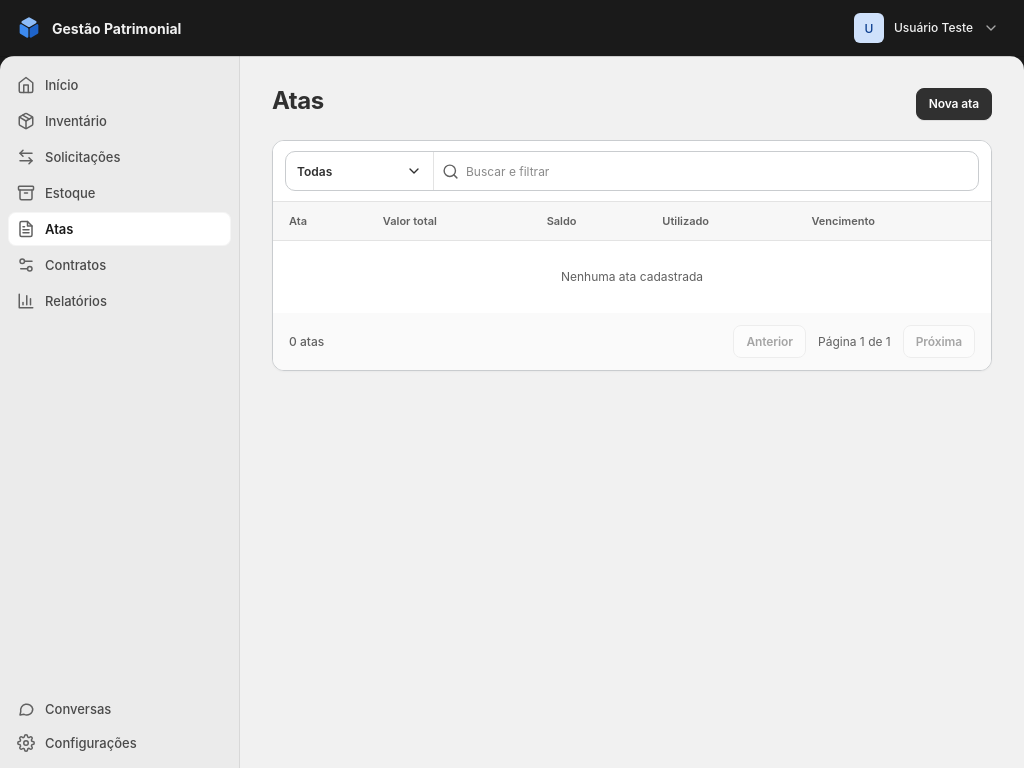
Test: Atas › cadastra uma ata em página própria e volta à lista com a confirmação
Click the link "Nova ata": (954, 104) [916,88,992,120]
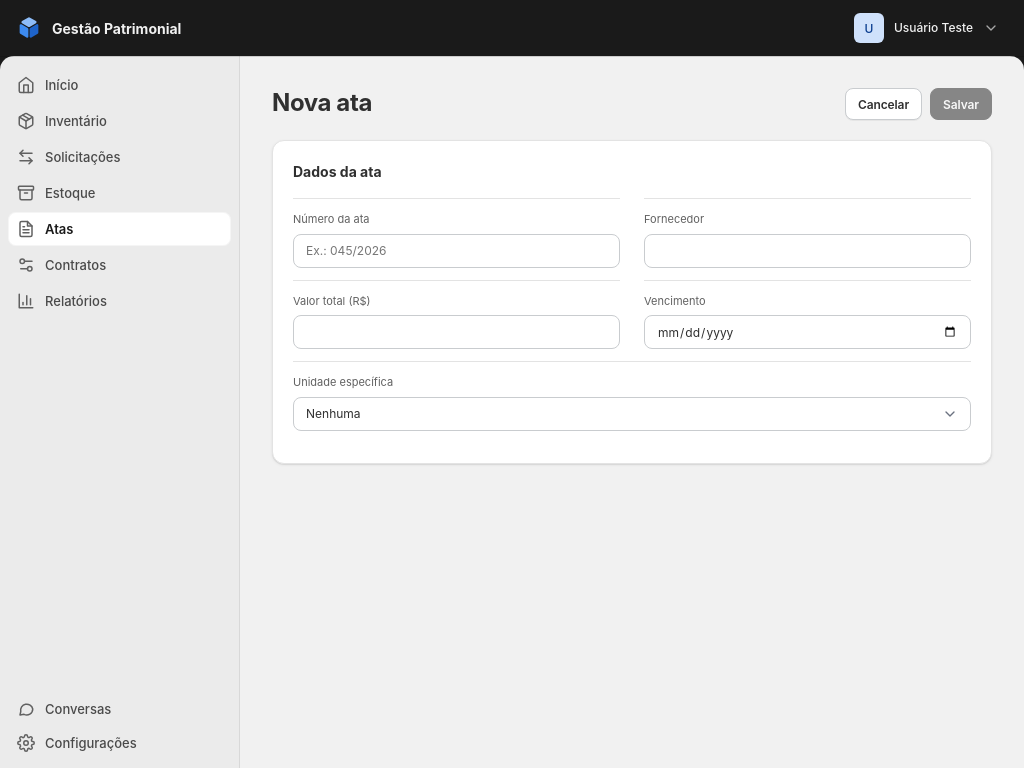
Expected: the heading "Nova ata" is shown, [272,88,372,118]
Expected: the field labelled "Fornecedor" is enabled, [644,234,971,268]
In the field labelled "Número da ata": (456, 250) [293,234,620,268], type "099/2026"
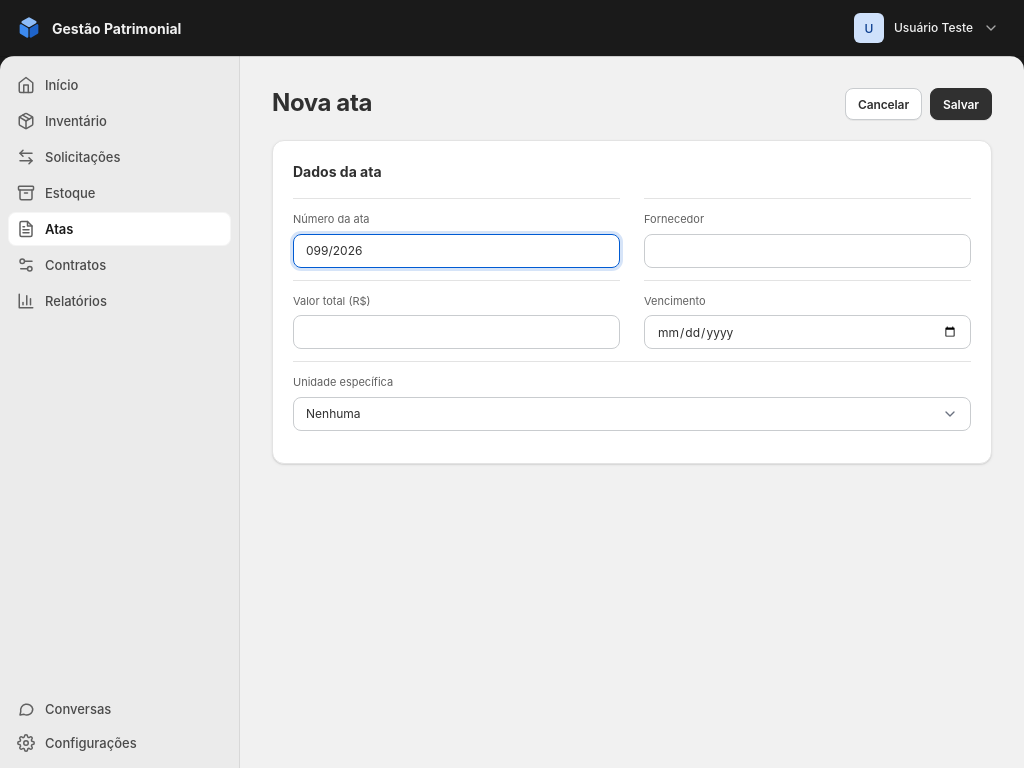
In the field labelled "Fornecedor": (808, 250) [644,234,971,268], type "MedEquip"
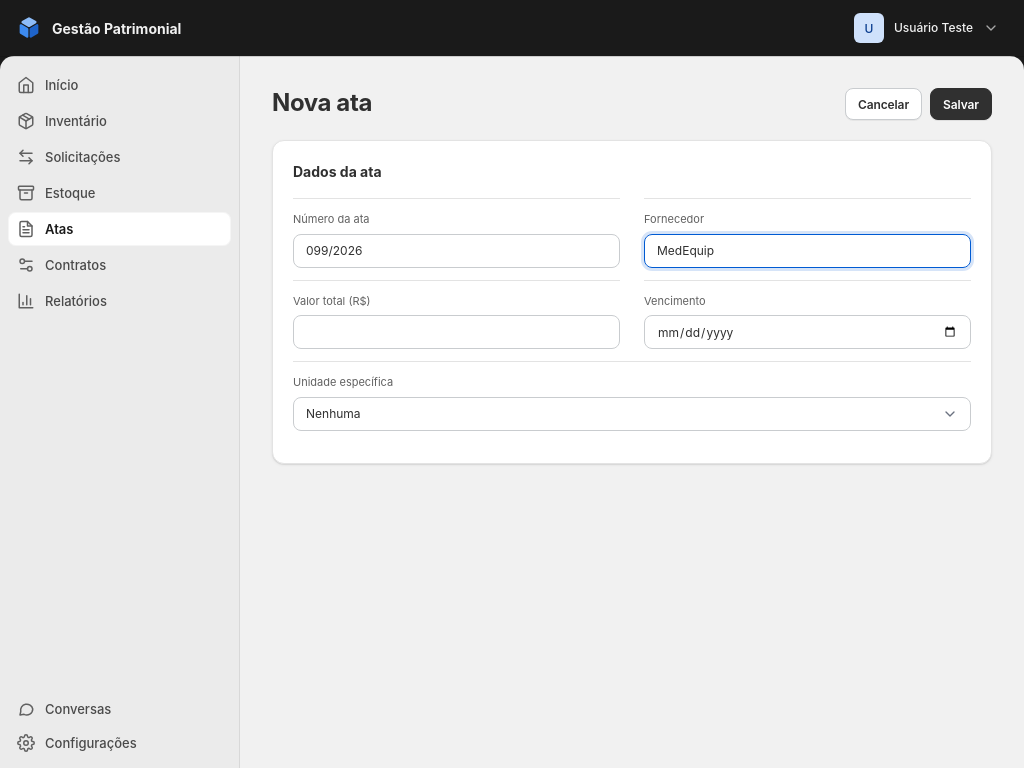
In the number field labelled "Valor total (R$)": (456, 332) [293,315,620,349], type "5000"
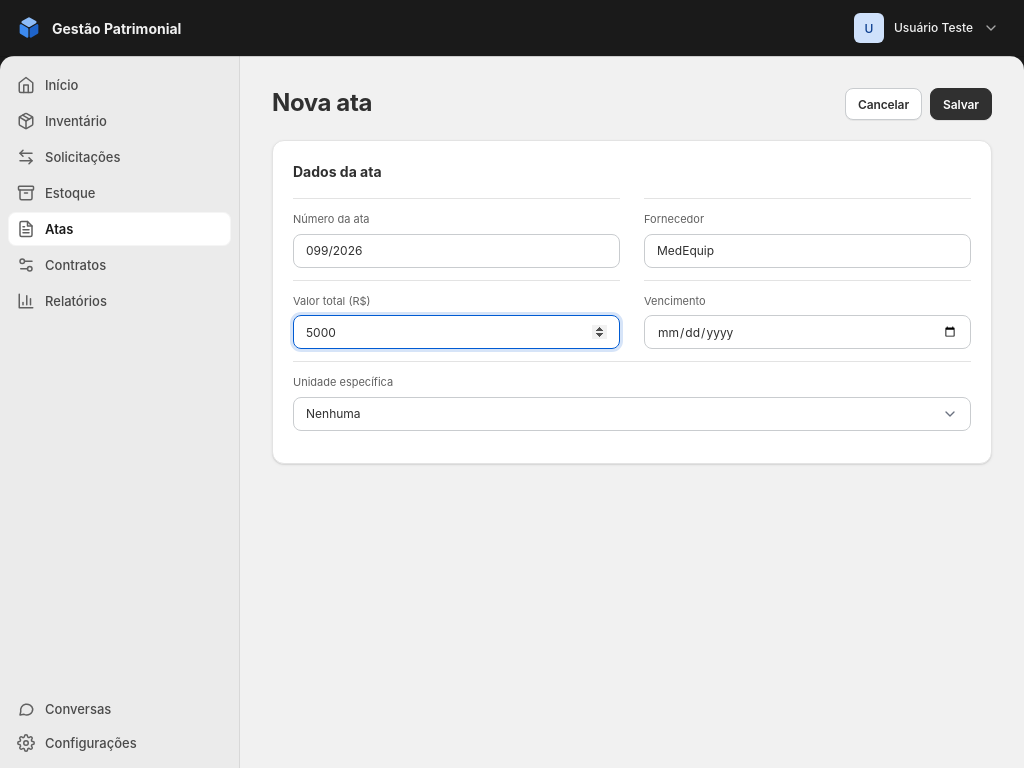
In the date field labelled "Vencimento": (808, 332) [644,315,971,349], type "2027-01-31"
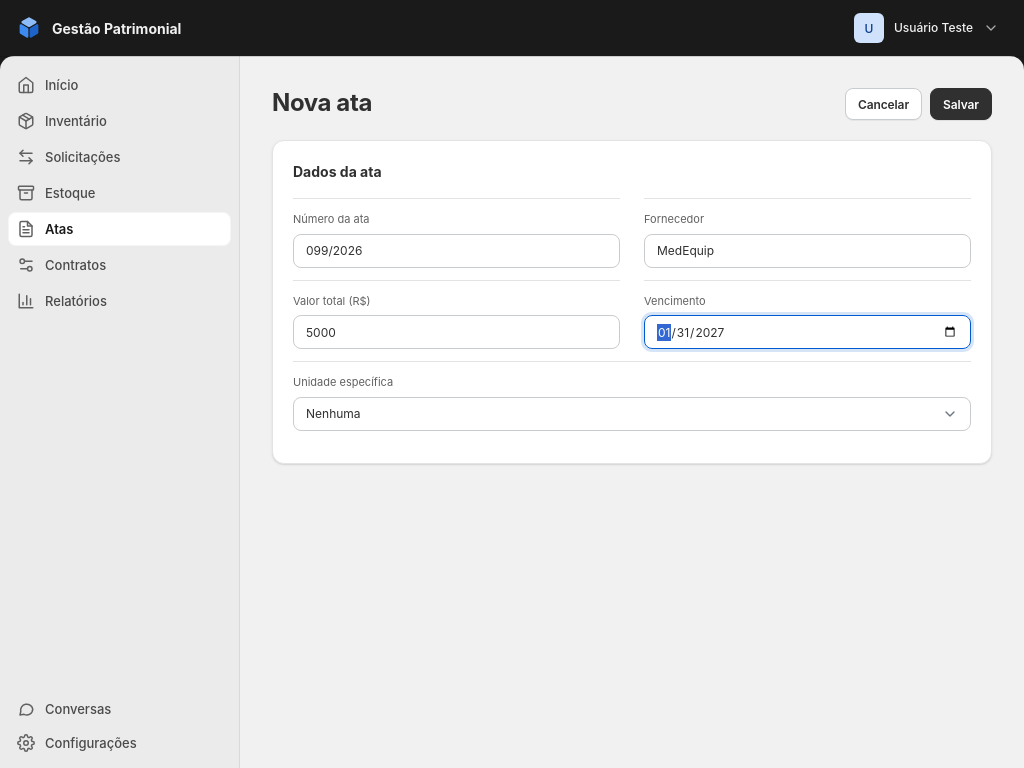
Click the button "Salvar": (961, 104) [930,88,992,120]
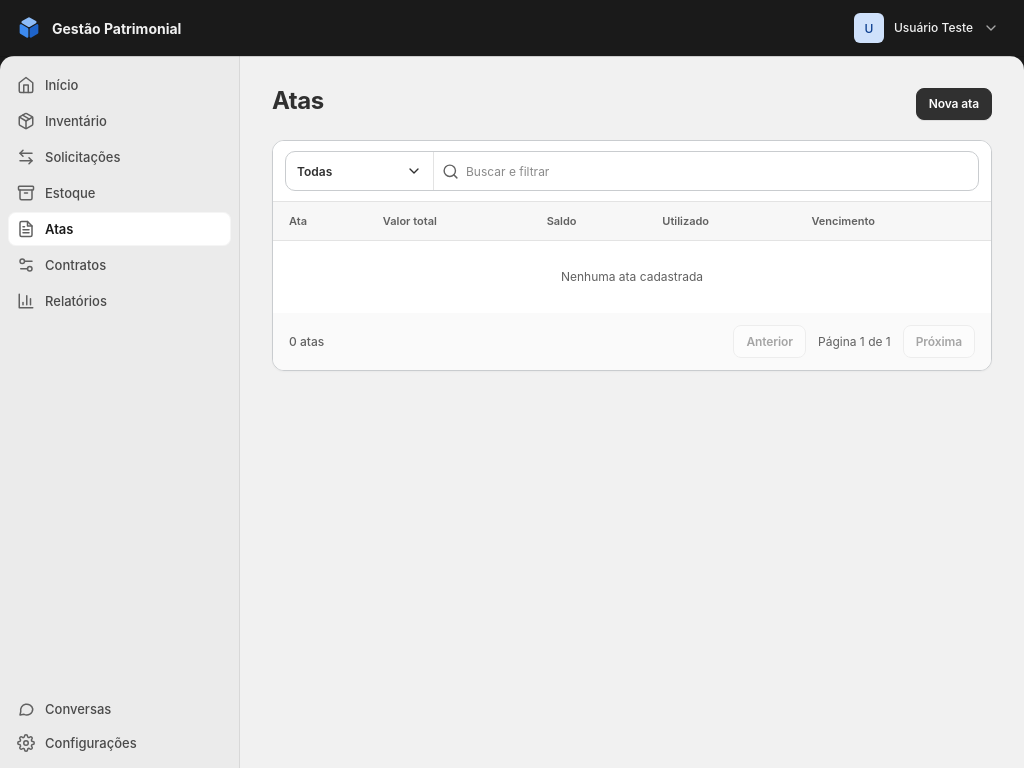
Expected: the heading "Atas" is shown, [272,88,324,115]
